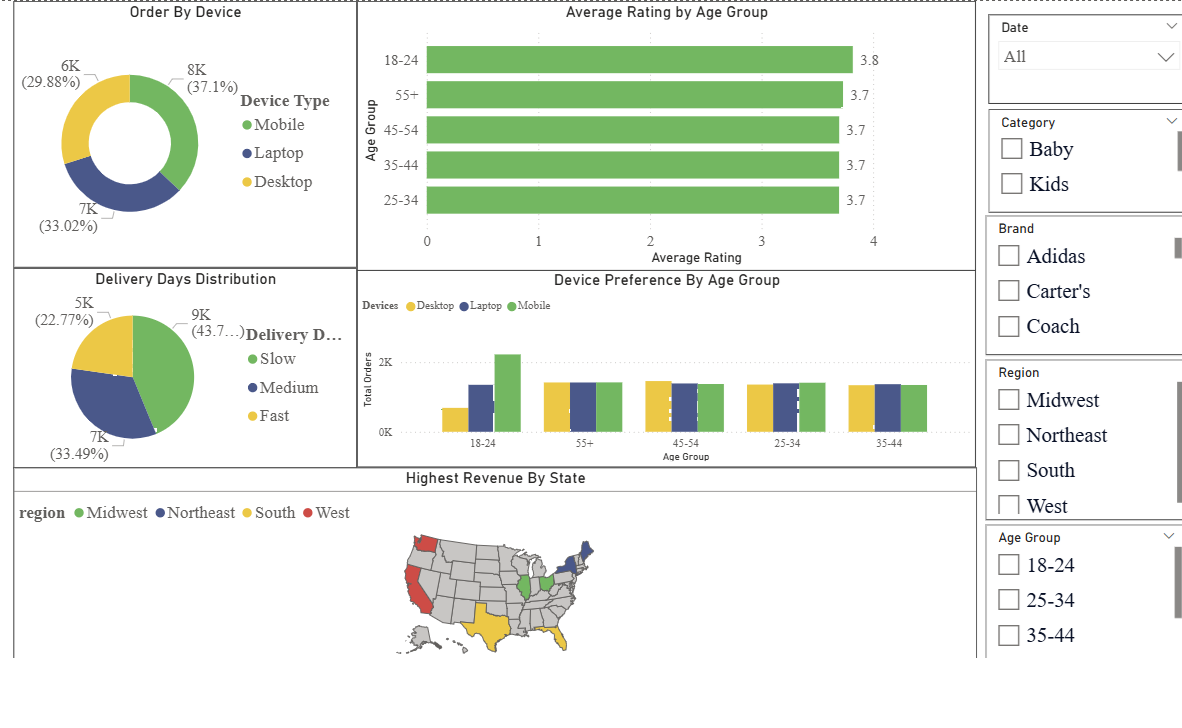

The dashboard page shown, as its layout file describes it:
{"tool":"powerbi","page":{"name":"Review & Delivery Insights","canvas":[1280,720],"ordinal":2},"visuals":[{"type":"donutChart","title":"Order By Device","fields":{"Y":["Amazon.Total Orders"],"Category":["Amazon.device_type"]},"box":[14.6,0,369.2,286.6],"z":0},{"type":"clusteredColumnChart","title":"Device Preference By Age Group","fields":{"Category":["Amazon.customer_age_group"],"Series":["Amazon.device_type"],"Y":["Amazon.Total Orders"]},"box":[384.4,289.1,665.6,212.5],"z":1000},{"type":"pieChart","title":"Delivery Days Distribution","fields":{"Category":["Amazon.delivery_type"],"Y":["Amazon.Total Orders"]},"box":[14.6,286.6,369.2,215.4],"z":2000},{"type":"slicer","fields":{"Values":["calendar.Date"]},"box":[1063.2,13.9,216.8,95.9],"z":3000},{"type":"slicer","fields":{"Values":["Amazon.main_category"]},"box":[1063.2,115.4,216.8,111.2],"z":4000},{"type":"slicer","fields":{"Values":["Amazon.region"]},"box":[1060.4,385,219.6,172.3],"z":5000},{"type":"slicer","fields":{"Values":["Amazon.brand"]},"box":[1060.4,230.7,216.8,150.1],"z":6000},{"type":"slicer","fields":{"Values":["Amazon.customer_age_group"]},"box":[1060.4,562.9,216.8,151.5],"z":7000},{"type":"barChart","fields":{"Category":["Amazon.customer_age_group"],"Y":["Amazon.Average Rating"]},"box":[383.8,0,665.5,289.8],"z":8000},{"type":"shapeMap","title":"Highest Revenue By State","fields":{"Series":["Amazon.region"],"Category":["StateRegionMap.States"],"Value":["Amazon.Total Revenue"]},"box":[14.1,501.6,1035.9,212.5],"z":9000}]}

Visuals, with their boxes in screenshot pixels (x1, y1, x2, y2):
"Order By Device" donutChart: <region>8, 0, 356, 264</region>
"Device Preference By Age Group" clusteredColumnChart: <region>357, 267, 985, 467</region>
"Delivery Days Distribution" pieChart: <region>8, 264, 356, 468</region>
slicer - calendar.Date: <region>998, 7, 1181, 98</region>
slicer - Amazon.main_category: <region>998, 103, 1181, 208</region>
slicer - Amazon.region: <region>995, 357, 1181, 520</region>
slicer - Amazon.brand: <region>995, 212, 1181, 353</region>
slicer - Amazon.customer_age_group: <region>995, 525, 1181, 668</region>
barChart - Amazon.customer_age_group x Amazon.Average Rating: <region>356, 0, 985, 267</region>
"Highest Revenue By State" shapeMap: <region>7, 467, 985, 668</region>
